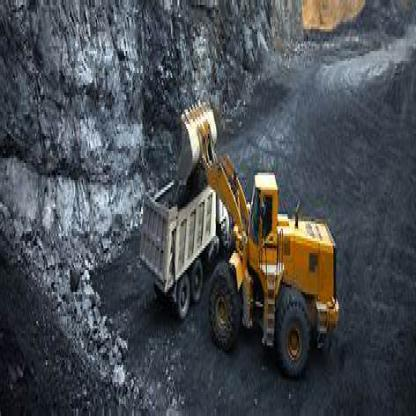bull_dozer/loader/grader: (174, 85, 341, 375)
